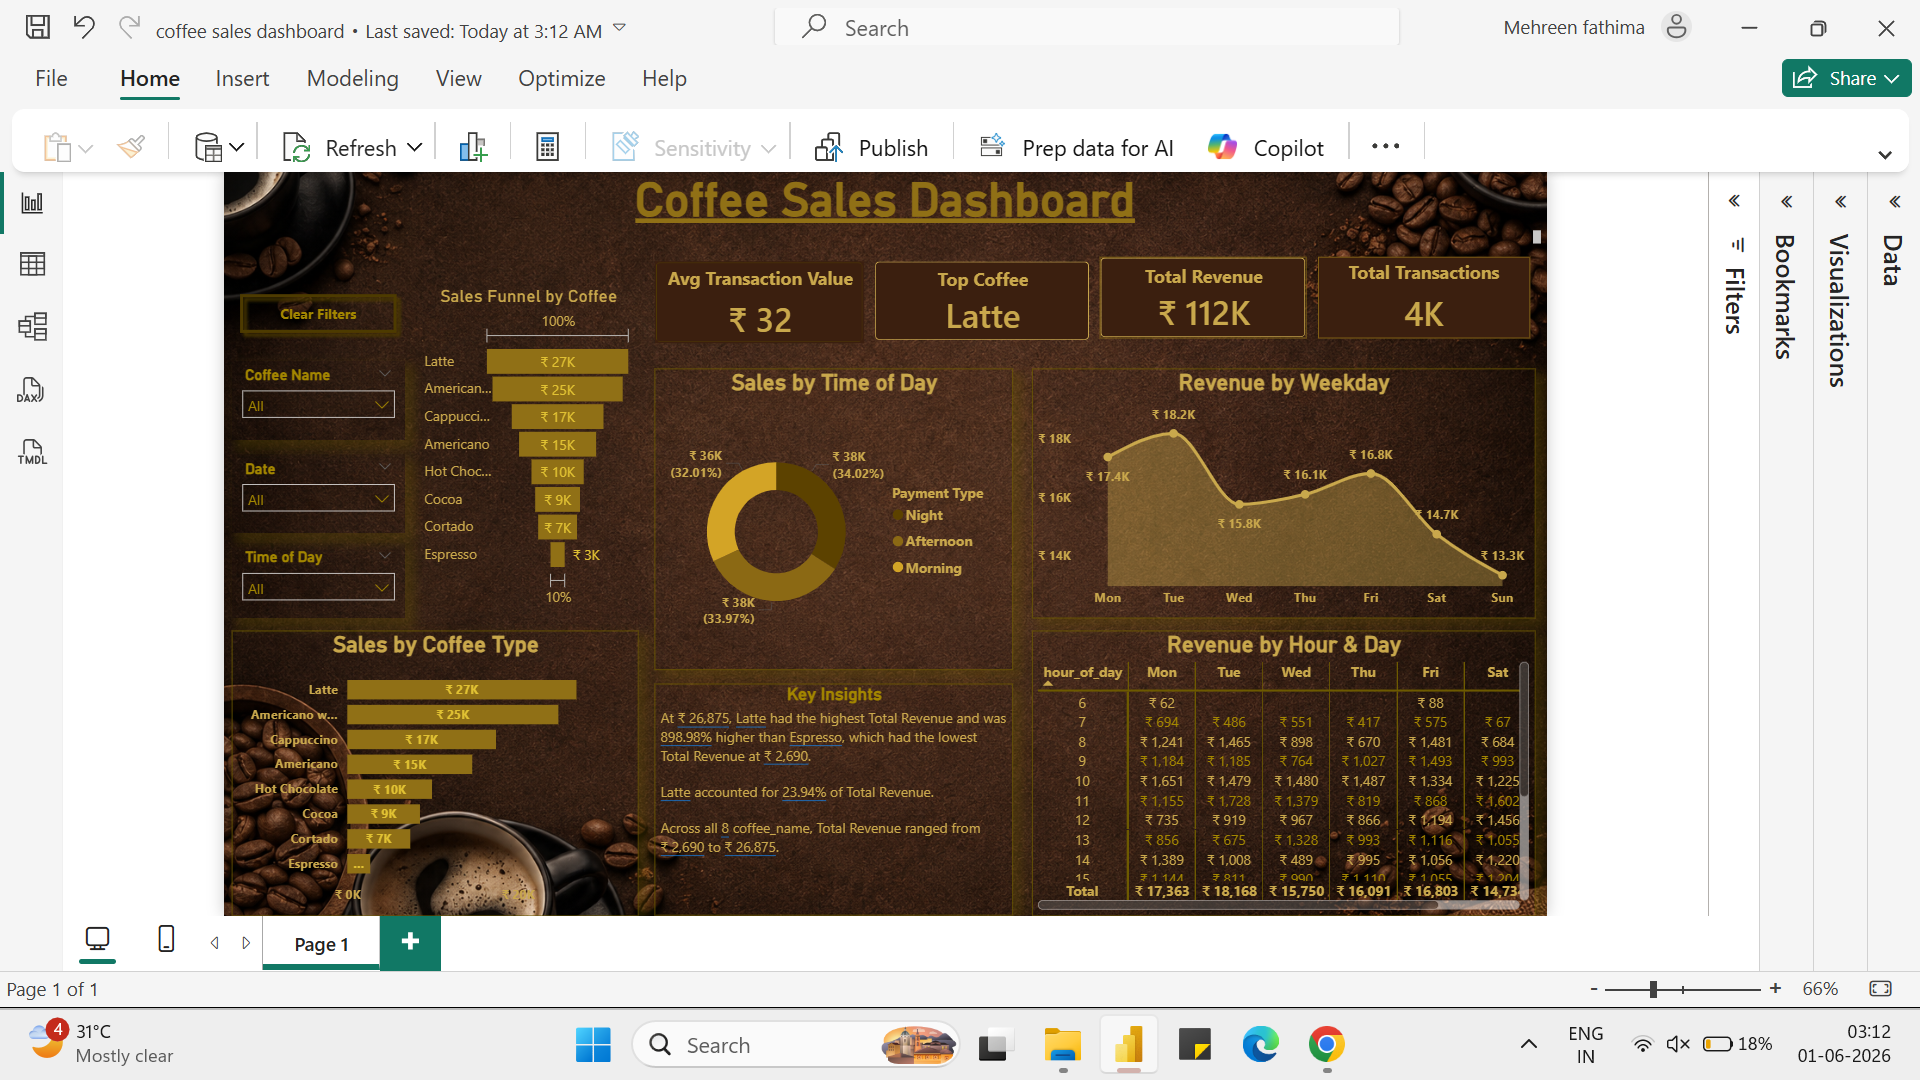

Layout of this report page (visuals, bound fields, positions):
{"tool":"powerbi","page":{"name":"Page 1","canvas":[1280,720],"ordinal":0},"visuals":[{"type":"cardVisual","fields":{"Data":["coffee shop sales.Total Revenue"]},"box":[842.7,77.7,210.7,89.8],"z":0},{"type":"cardVisual","fields":{"Data":["coffee shop sales.Total Transactions"]},"box":[1053.3,77.7,215.8,89.8],"z":1000},{"type":"cardVisual","fields":{"Data":["coffee shop sales.Avg Transaction Value"]},"box":[412.7,81.2,212.4,89.8],"z":2000},{"type":"cardVisual","fields":{"Data":["coffee shop sales.Top Coffee"]},"box":[625.1,81.2,217.6,86.3],"z":3000},{"type":"textbox","title":"Coffee Sales Dashboard","box":[0,8,1280.2,73.9],"z":4000},{"type":"clusteredBarChart","title":"Sales by Coffee Type","fields":{"Category":["coffee shop sales.coffee_name"],"Y":["coffee shop sales.Total Revenue"]},"box":[6.9,443.8,393.7,276.3],"z":5000},{"type":"areaChart","title":"Revenue by Weekday","fields":{"Category":["coffee shop sales.Weekday"],"Y":["coffee shop sales.Total Revenue"]},"box":[782.2,189.9,486.9,241.7],"z":6000},{"type":"donutChart","title":"Sales by Time of Day","fields":{"Category":["coffee shop sales.Time_of_Day"],"Y":["coffee shop sales.Total Revenue"]},"box":[416.1,189.9,347.1,291.8],"z":7000},{"type":"pivotTable","title":"Revenue by Hour & Day","fields":{"Rows":["coffee shop sales.hour_of_day"],"Columns":["coffee shop sales.Weekday"],"Values":["coffee shop sales.Total Revenue"]},"box":[782.2,443.8,486.9,276.3],"z":8000},{"type":"slicer","fields":{"Values":["coffee shop sales.coffee_name"]},"box":[6.9,183,167.5,76],"z":9000},{"type":"slicer","fields":{"Values":["coffee shop sales.Date"]},"box":[6.9,272.8,167.5,76],"z":10000},{"type":"slicer","fields":{"Values":["coffee shop sales.Time_of_Day"]},"box":[6.9,359.2,167.5,72.5],"z":11000},{"type":"actionButton","box":[6.9,110.5,167.5,53.5],"z":12000},{"type":"textbox","title":"Key Insights","box":[416.1,495.6,347.1,224.5],"z":13000},{"type":"funnel","title":"Sales Funnel by Coffee","fields":{"Category":["coffee shop sales.coffee_name"],"Y":["coffee shop sales.Total Revenue"]},"box":[188.2,110.5,212.4,314.3],"z":14000}]}

Visuals, with their boxes on the page's 1280x720 design canvas (x1, y1, x2, y2). These are canvas units, not pixel positions in the 1920x1080 screenshot, which may show the page scaled, cropped or inside an application window:
cardVisual - coffee shop sales.Total Revenue: {"left": 843, "top": 78, "right": 1053, "bottom": 168}
cardVisual - coffee shop sales.Total Transactions: {"left": 1053, "top": 78, "right": 1269, "bottom": 168}
cardVisual - coffee shop sales.Avg Transaction Value: {"left": 413, "top": 81, "right": 625, "bottom": 171}
cardVisual - coffee shop sales.Top Coffee: {"left": 625, "top": 81, "right": 843, "bottom": 168}
"Coffee Sales Dashboard" textbox: {"left": 0, "top": 8, "right": 1280, "bottom": 82}
"Sales by Coffee Type" clusteredBarChart: {"left": 7, "top": 444, "right": 401, "bottom": 720}
"Revenue by Weekday" areaChart: {"left": 782, "top": 190, "right": 1269, "bottom": 432}
"Sales by Time of Day" donutChart: {"left": 416, "top": 190, "right": 763, "bottom": 482}
"Revenue by Hour & Day" pivotTable: {"left": 782, "top": 444, "right": 1269, "bottom": 720}
slicer - coffee shop sales.coffee_name: {"left": 7, "top": 183, "right": 174, "bottom": 259}
slicer - coffee shop sales.Date: {"left": 7, "top": 273, "right": 174, "bottom": 349}
slicer - coffee shop sales.Time_of_Day: {"left": 7, "top": 359, "right": 174, "bottom": 432}
actionButton: {"left": 7, "top": 110, "right": 174, "bottom": 164}
"Key Insights" textbox: {"left": 416, "top": 496, "right": 763, "bottom": 720}
"Sales Funnel by Coffee" funnel: {"left": 188, "top": 110, "right": 401, "bottom": 425}
